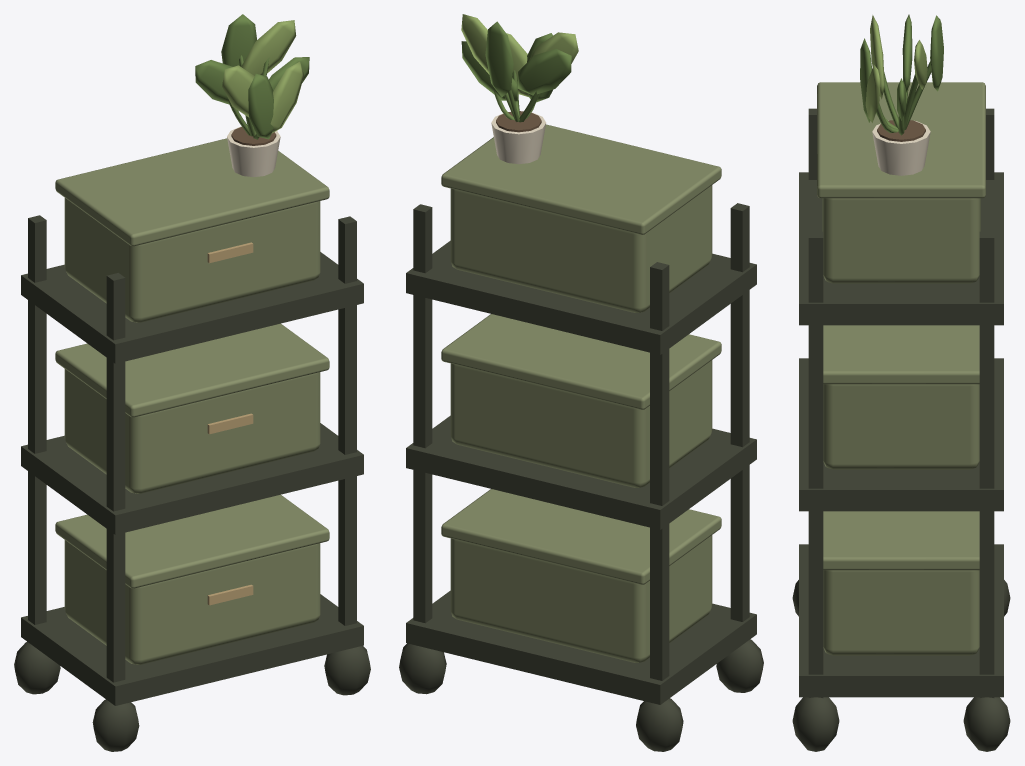
The model's file is study_ref_cart.glb.
The picture shows the model from 3 angles, left to right: view 1: azimuth 30°, elevation 25°; view 2: azimuth 150°, elevation 25°; view 3: azimuth 270°, elevation 25°; orthographic projection. The views are drawn at different scales.
Bounding box in the file's own units: 0.81 × 1.83 × 0.51.
